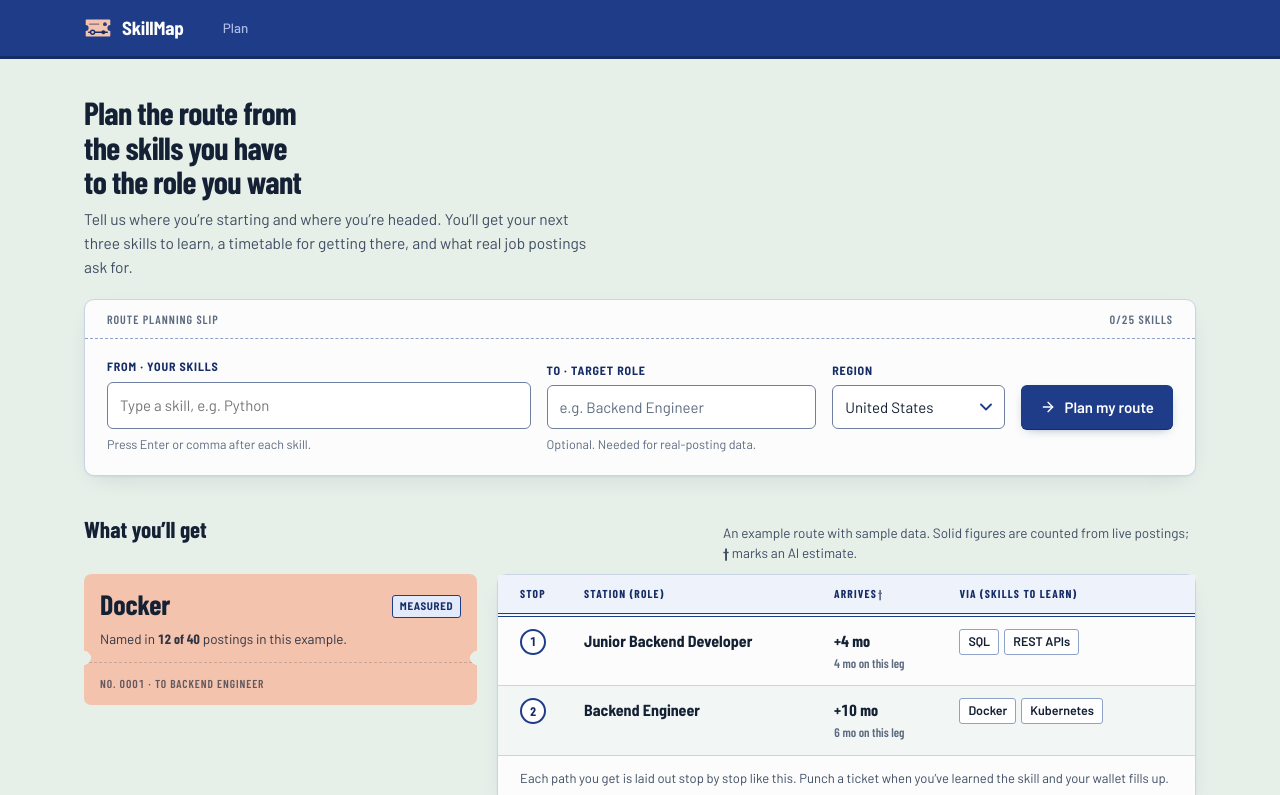
Test case: App: slip → tickets → timetable › asks for a skill before submitting
The width and height of the screenshot is (1280, 795).
Click the button "Plan my route" at x=1097, y=407, box [1022,385,1173,429]
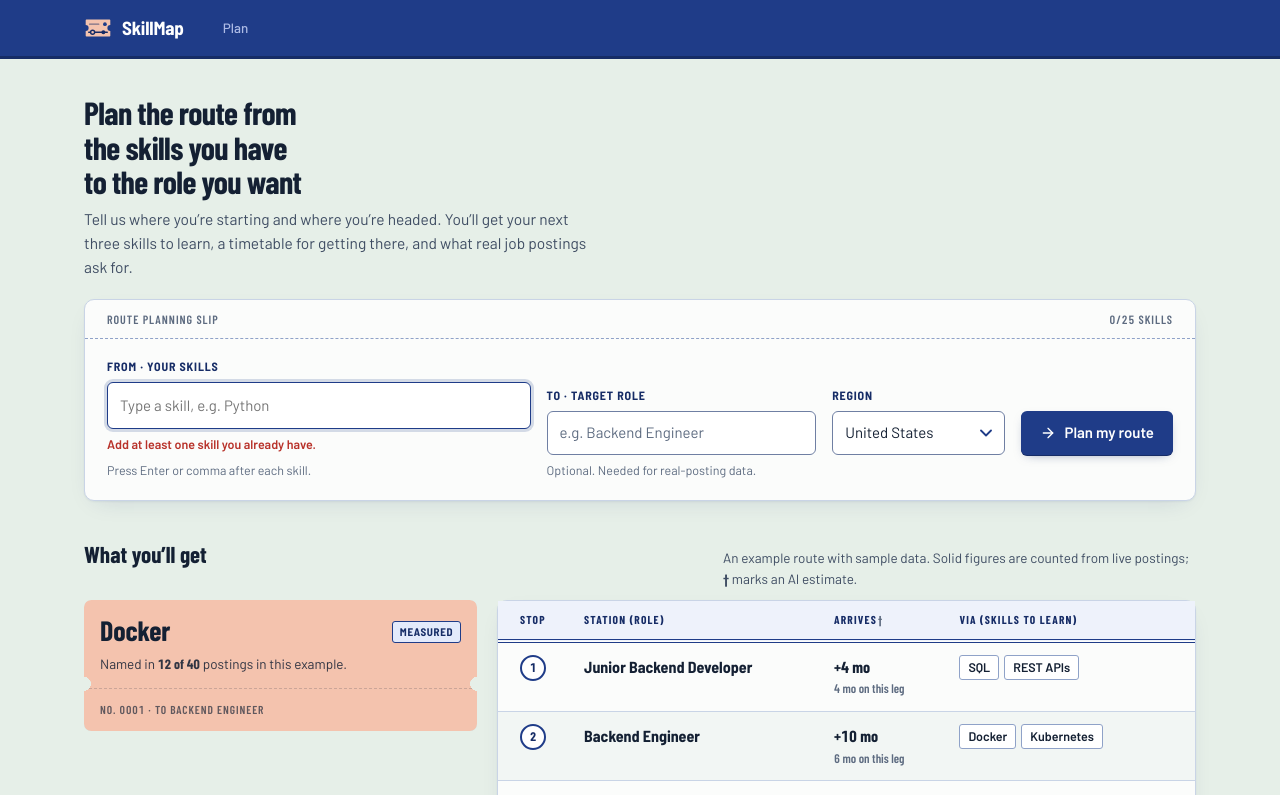
Result: the message shows "at least one skill" at [107,436,316,452]
